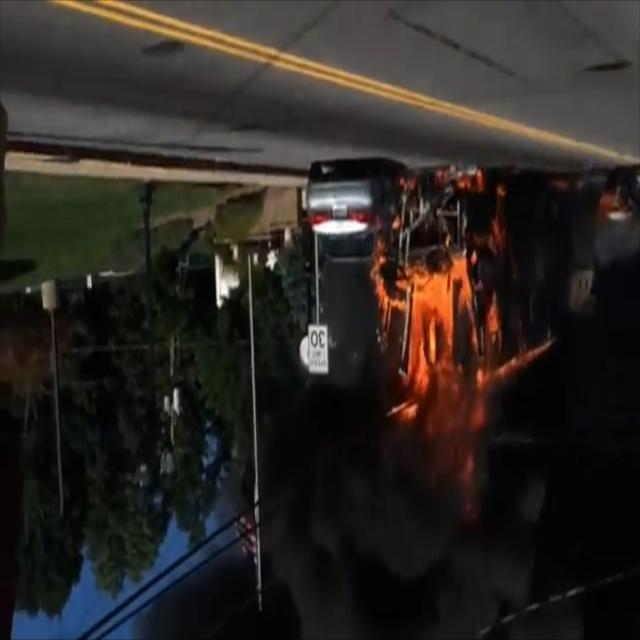fire: (381, 179, 514, 464)
